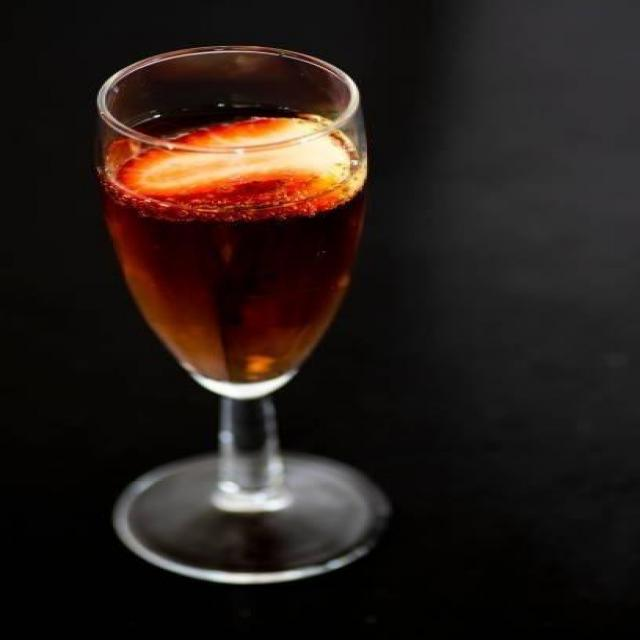glass-wine: (88, 45, 401, 585)
